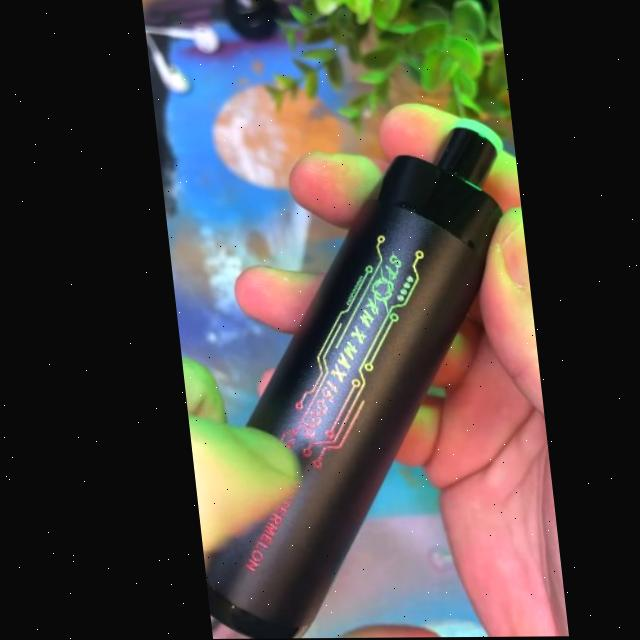vape: (154, 126, 537, 639)
